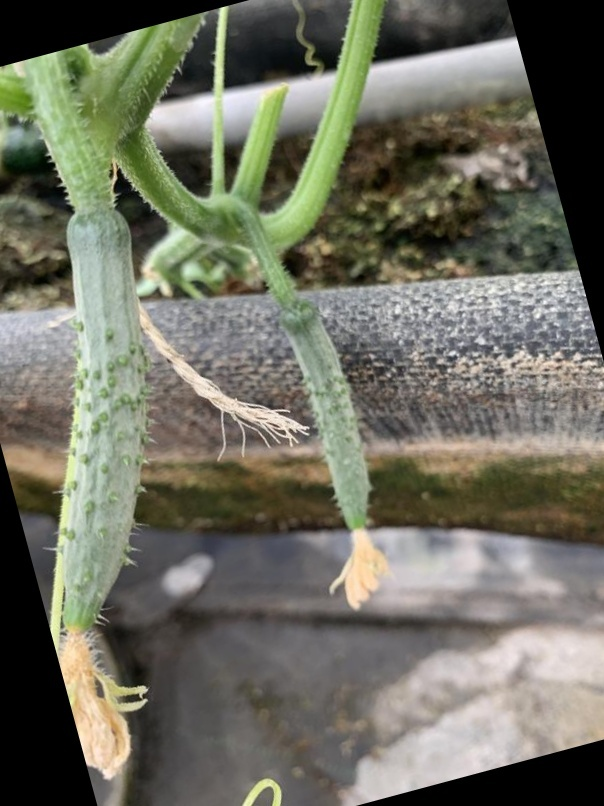bear: (273, 293, 384, 594)
growth: (54, 202, 156, 655)
